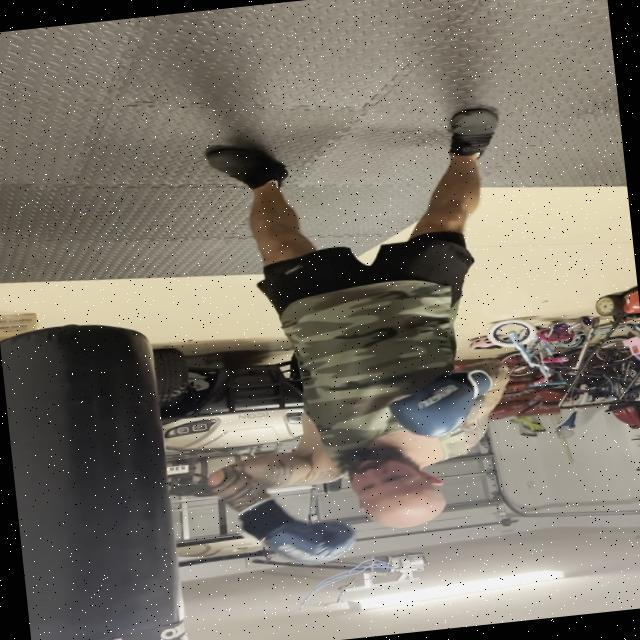bag: (0, 309, 198, 640)
uppercut: (190, 362, 522, 578)
